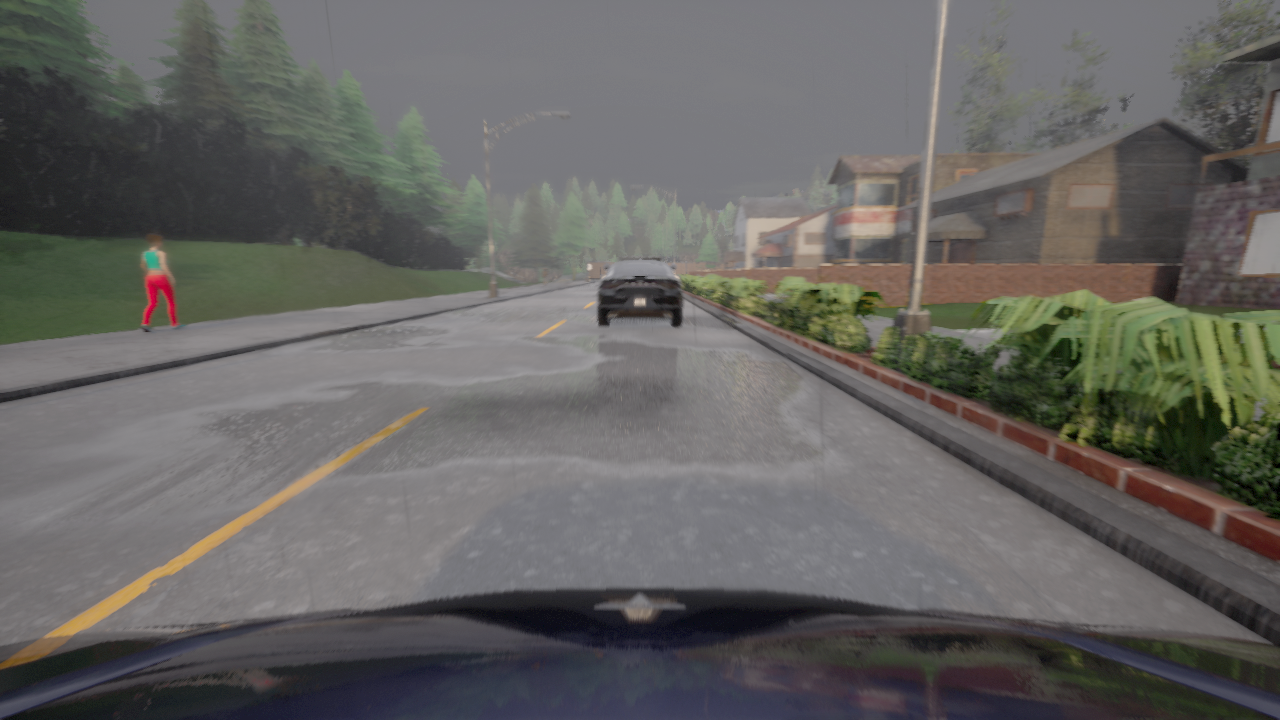cyclist: (0, 588, 1279, 719), (597, 256, 682, 326)
pedestrian: (140, 234, 186, 332), (542, 265, 548, 286)
